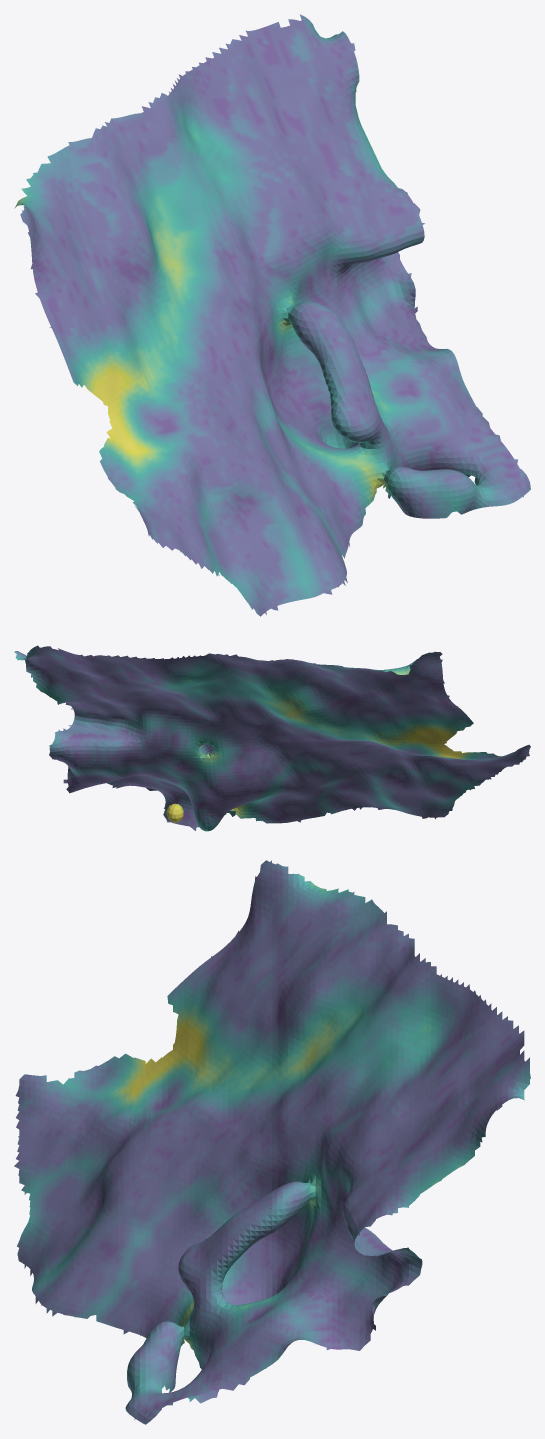
File: crop1120_gap.glb
3 views of the same model, one above another, from view 1: azimuth 30°, elevation 25°; view 2: azimuth 150°, elevation 25°; view 3: azimuth 270°, elevation 25° (orthographic). The views are drawn at different scales.
Visible parts, largest first — view 1: world; view 2: world; view 3: world.
Part boxes in pixels (x1,y1,x2,y2): world: [14, 14, 530, 616]; world: [14, 645, 530, 831]; world: [14, 860, 530, 1424].
Bounding box in the file's own units: 1535 × 1135 × 1507.
